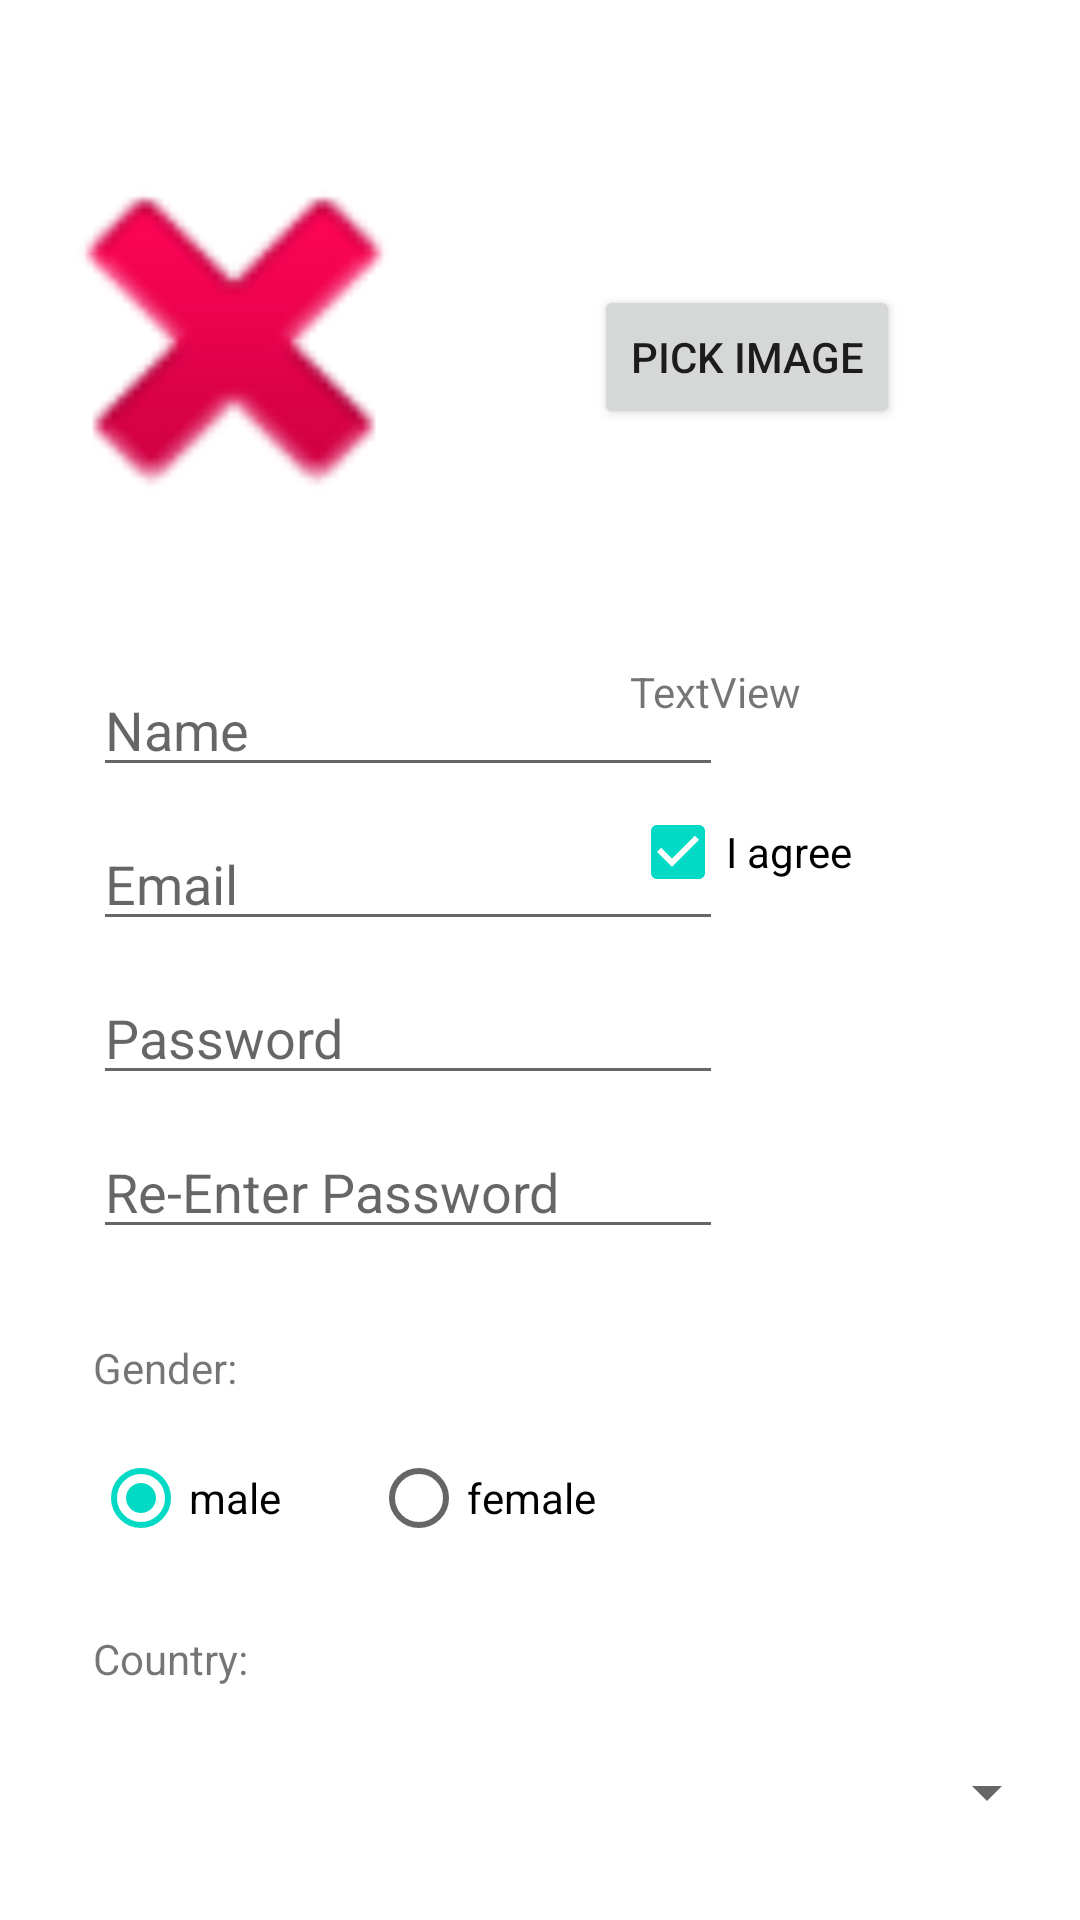

Point at icon controls on the screen. Image size 1080x1920, points as (x,y).
delete: (234,339)
